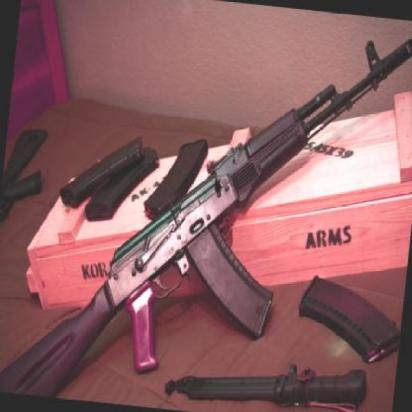Gun: (0, 38, 412, 400)
